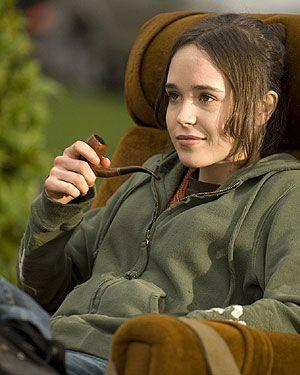trubka: (82, 134, 158, 179)
